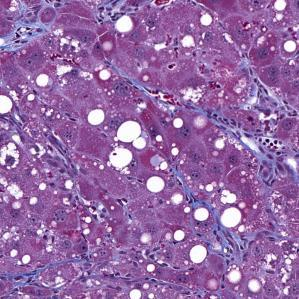fibrosis: (200, 98, 299, 186)
